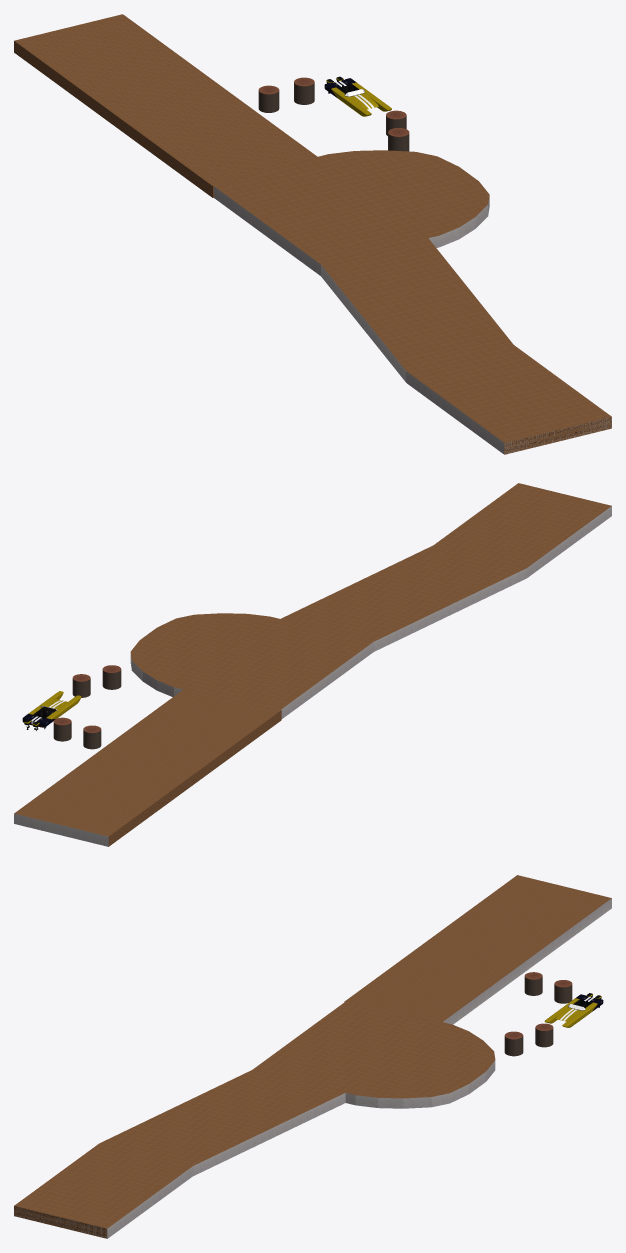
File: chao_mapa.obj
3 renders of one model, top to bottom at view 1: azimuth 30°, elevation 25°; view 2: azimuth 150°, elevation 25°; view 3: azimuth 330°, elevation 25°, orthographic. The views are drawn at different scales.
Visible parts, largest first — view 1: Plane, Plane2, pCube1_phong2_0; view 2: Plane, Plane2, pCube1_phong2_0; view 3: Plane, Plane2, pCube1_phong2_0.
Part boxes in pixels (left/top/right/bottom): Plane: left=213, top=150, right=611, bottom=454; Plane2: left=14, top=14, right=321, bottom=197; pCube1_phong2_0: left=331, top=82, right=391, bottom=116; Plane: left=130, top=483, right=611, bottom=718; Plane2: left=14, top=689, right=281, bottom=846; pCube1_phong2_0: left=28, top=691, right=81, bottom=719; Plane: left=14, top=999, right=495, bottom=1238; Plane2: left=344, top=875, right=611, bottom=1024; pCube1_phong2_0: left=544, top=998, right=597, bottom=1027.
Size of what is drawn, in the model's own units: 30.64 by 2.17 by 108.
